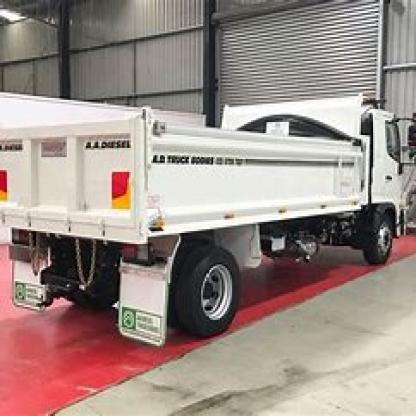dump_truck: (7, 48, 414, 351)
